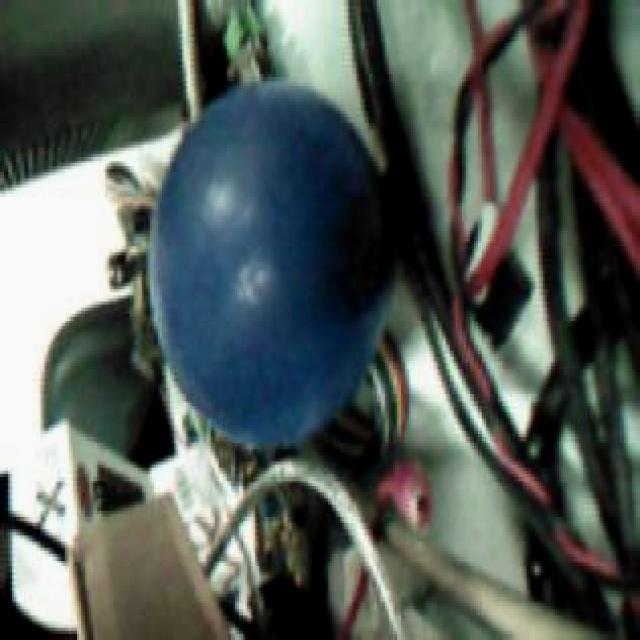BallPurple: (148, 82, 388, 449)
